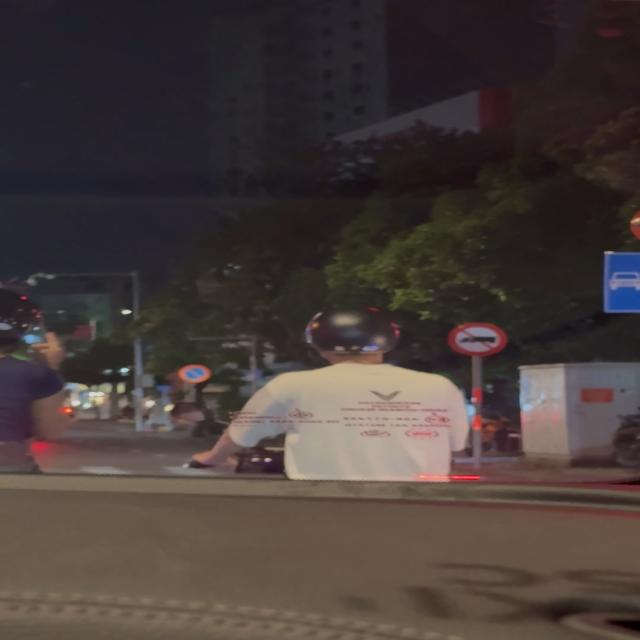Bien bao cam xe so-mi ro-mooc: (447, 322, 516, 359)
